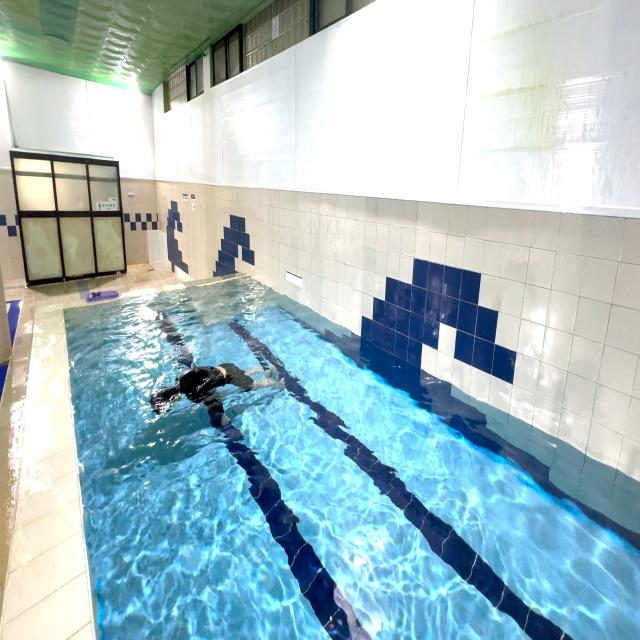Drowning: (144, 348, 288, 442)
